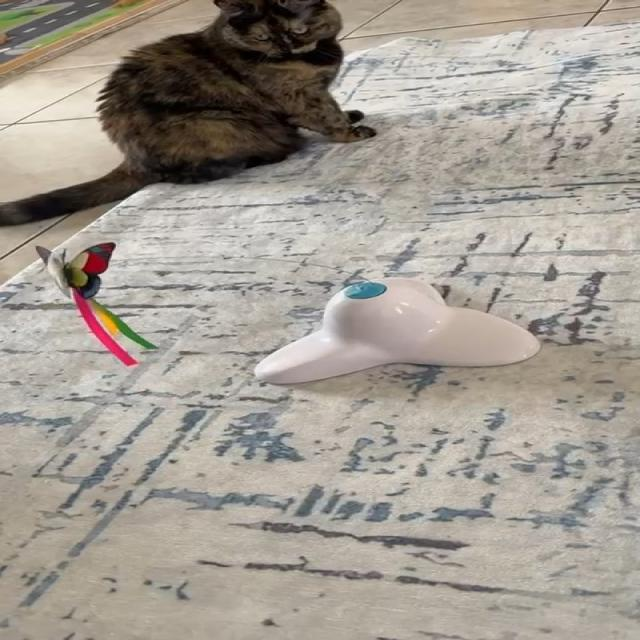authorized: (0, 0, 376, 227)
